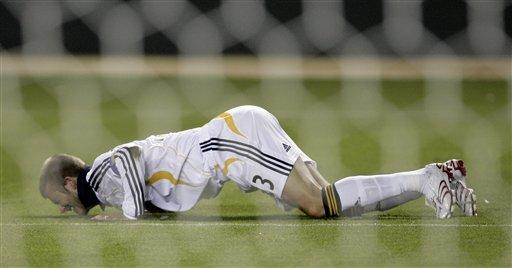fall: (32, 93, 478, 228)
